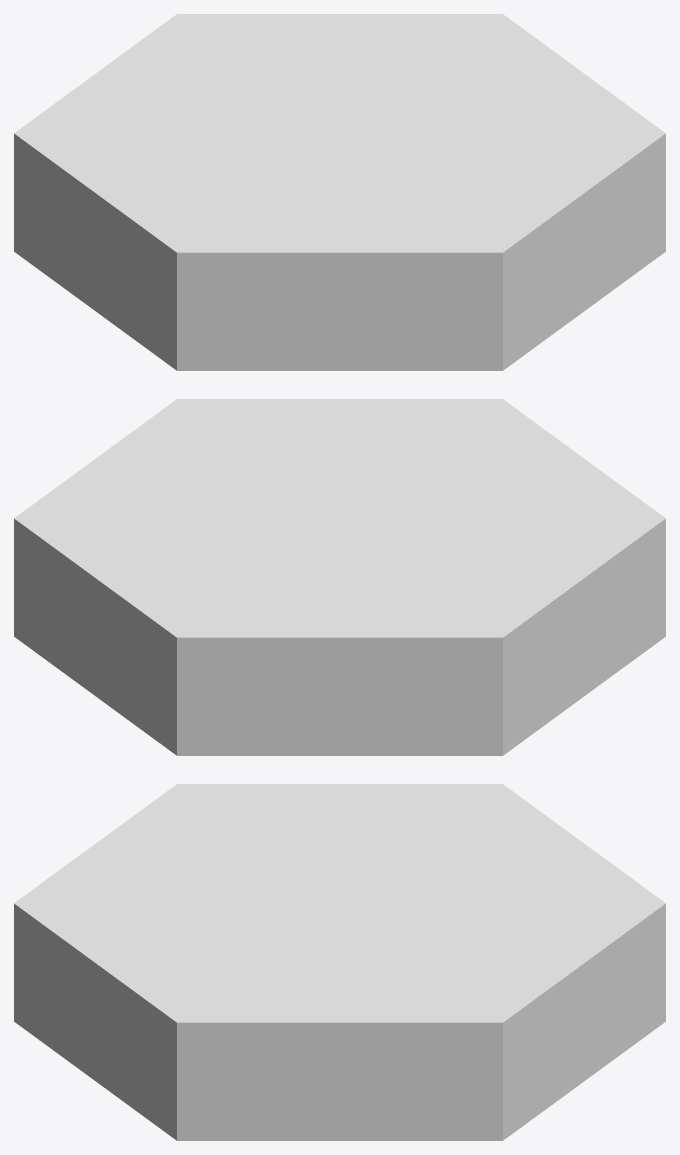
File: null_tile.glb
The picture shows the model from 3 angles, top to bottom: view 1: azimuth 30°, elevation 25°; view 2: azimuth 150°, elevation 25°; view 3: azimuth 270°, elevation 25°; orthographic projection.
Parts seen in each view (by area): view 1: BaseTile; view 2: BaseTile; view 3: BaseTile.
Part boxes in pixels (x1,y1,x2,y2): BaseTile: (14, 14, 665, 370); BaseTile: (14, 399, 665, 755); BaseTile: (14, 784, 665, 1140).
Size of the model in its own units: 0.866 by 0.2 by 1.
1 material, 1 textured.
